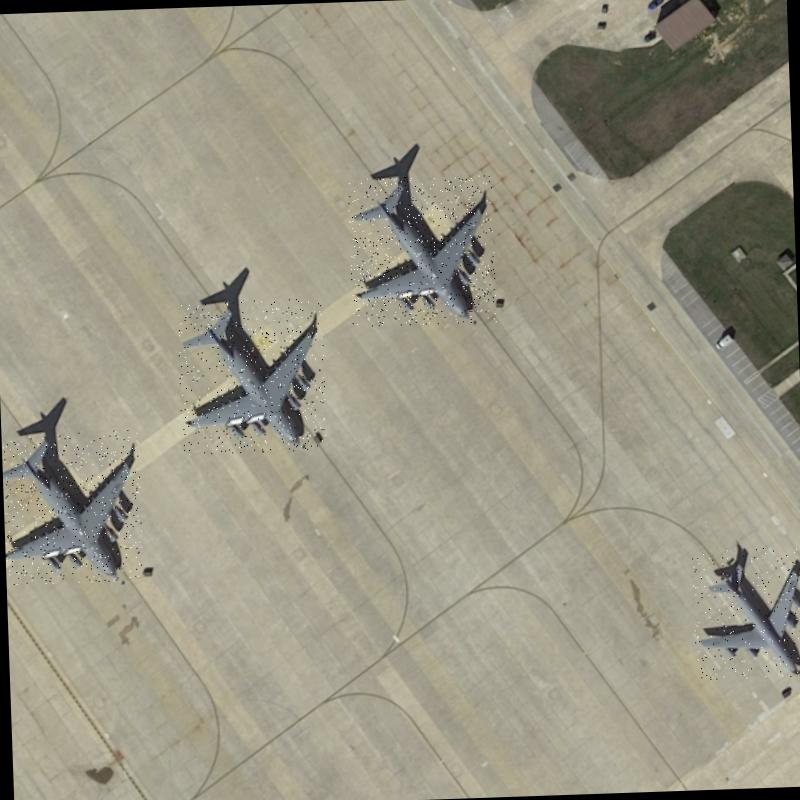A14: (691, 546, 800, 680)
A3: (176, 297, 326, 454), (347, 174, 496, 326), (2, 429, 143, 585)
